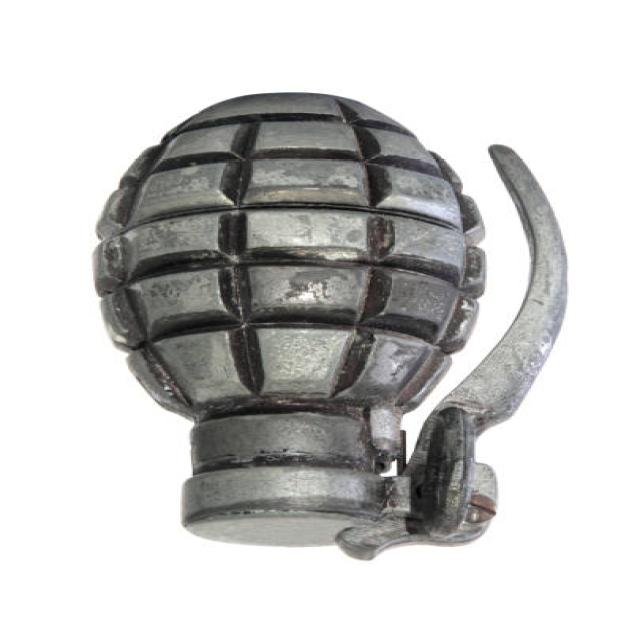grenade: (85, 88, 585, 564)
